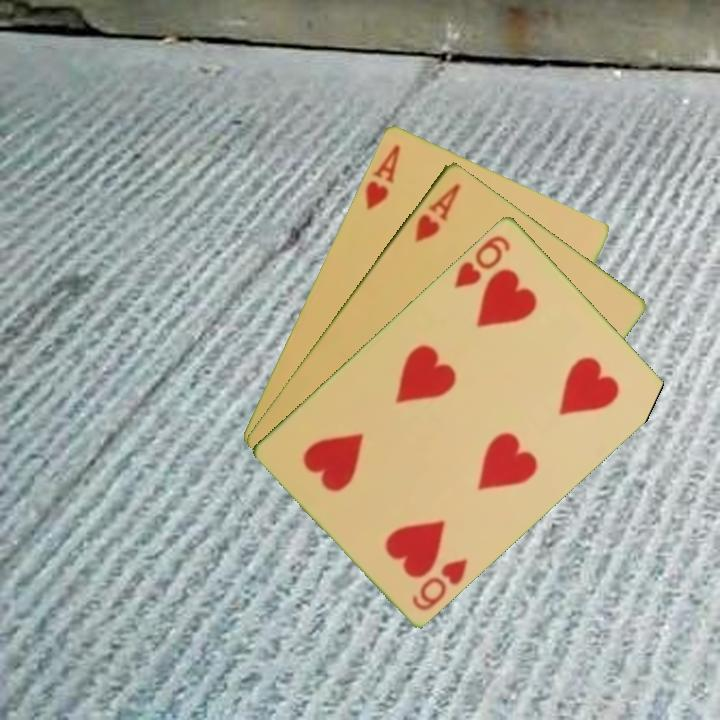6h: (450, 231, 514, 291), (408, 554, 471, 614)
Ah: (411, 179, 464, 245), (361, 140, 403, 212)
